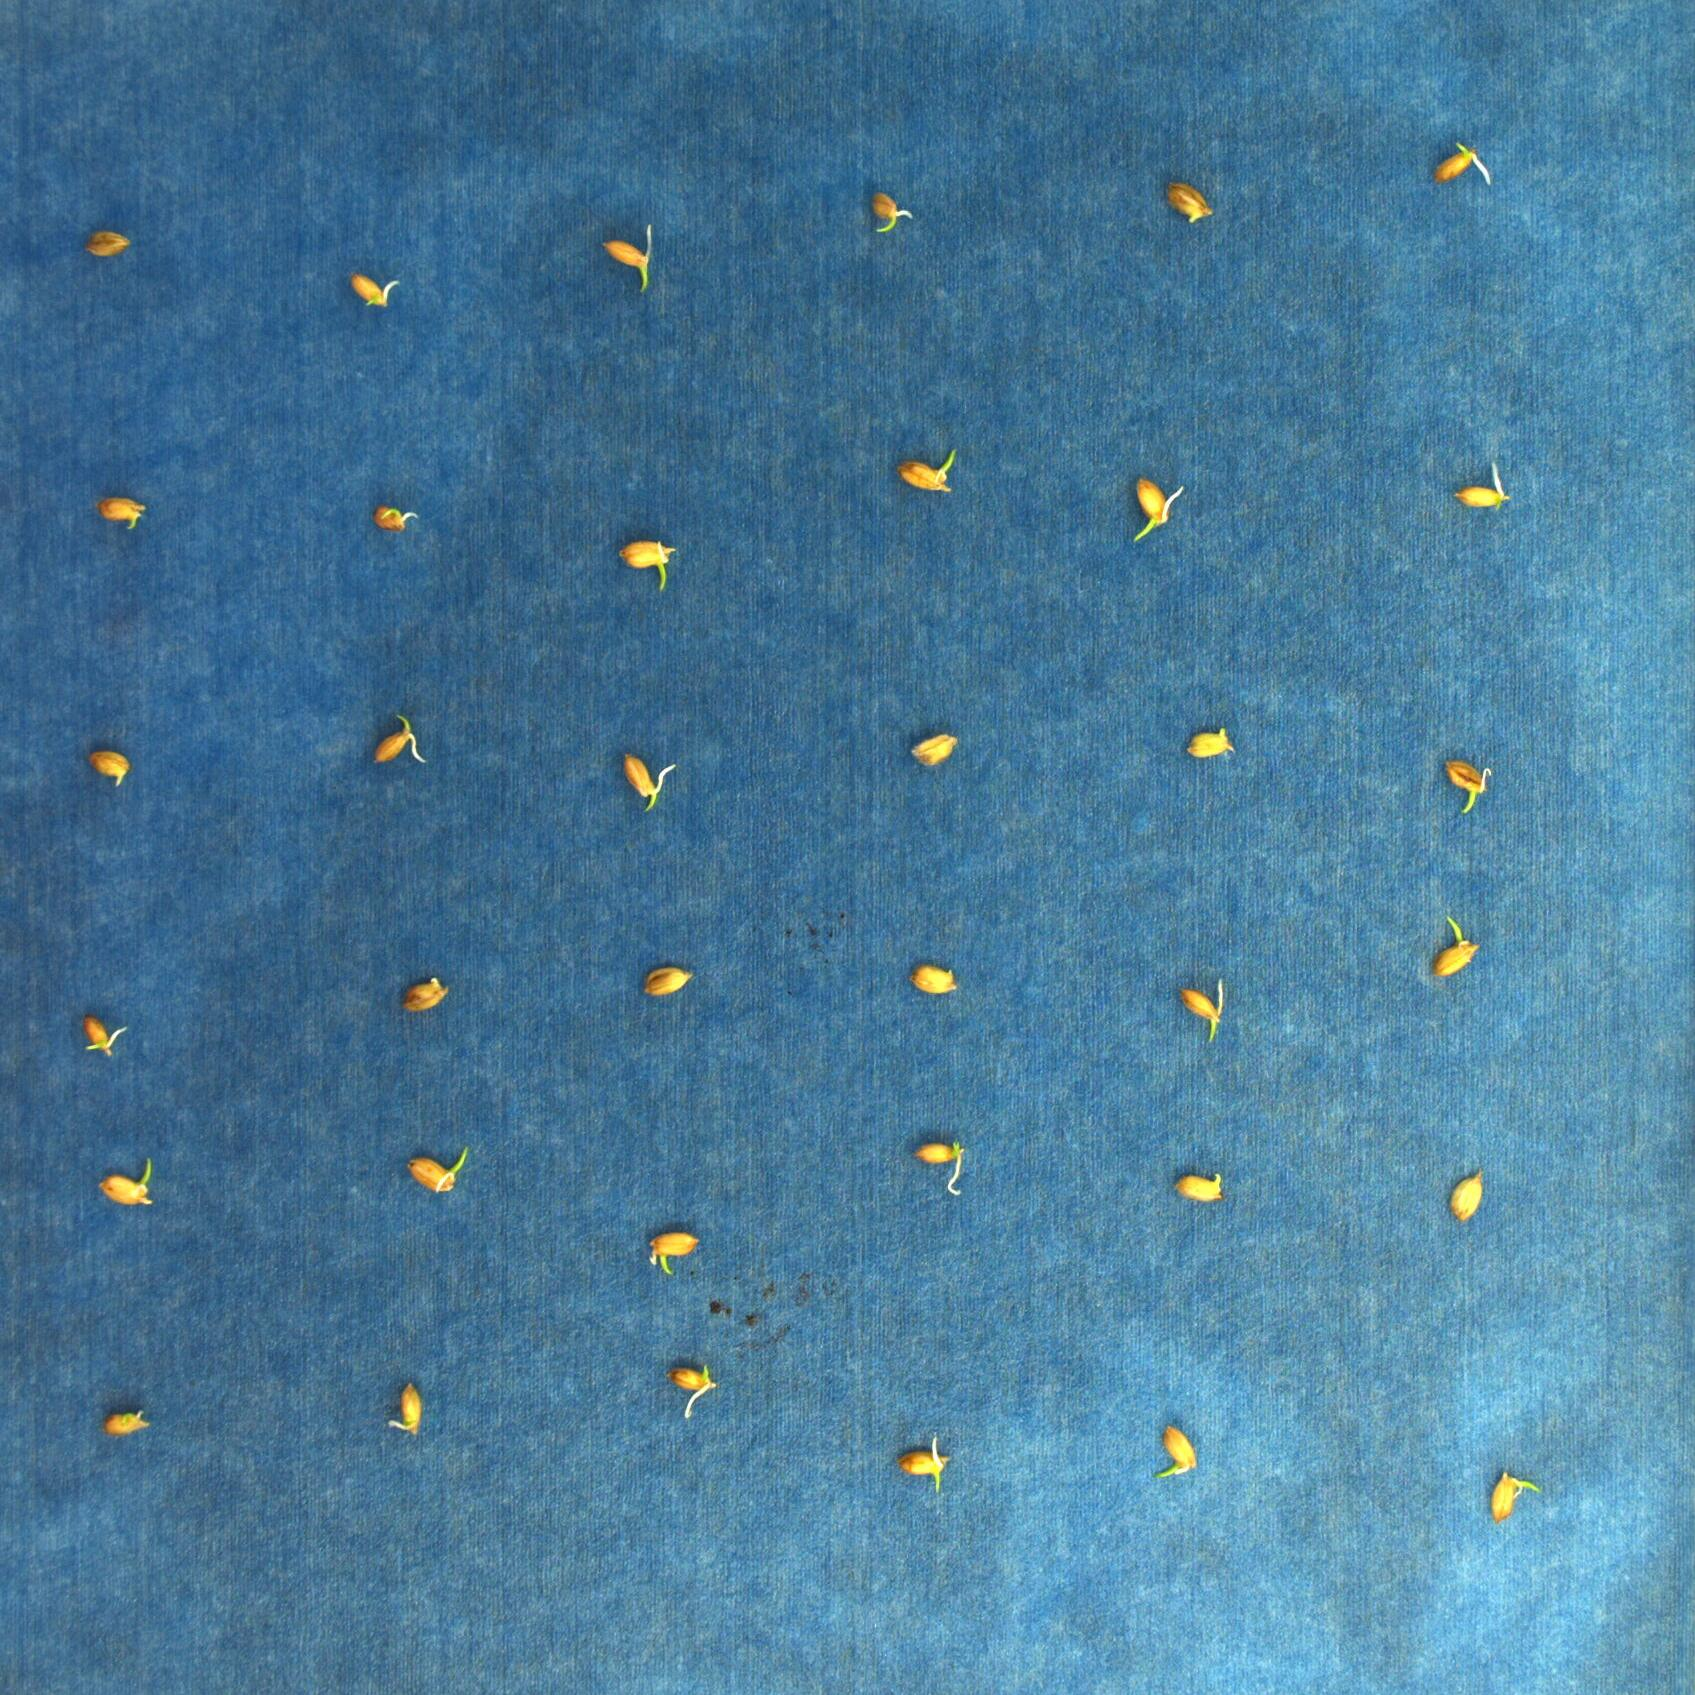not sprout: (622, 750, 677, 810), (913, 1139, 964, 1198), (664, 1364, 719, 1419), (1454, 461, 1509, 511), (1433, 141, 1492, 186), (1447, 1167, 1485, 1225), (386, 1380, 424, 1437), (1167, 179, 1214, 224), (82, 1014, 127, 1057), (96, 494, 147, 529), (908, 733, 959, 768), (399, 978, 450, 1014), (906, 961, 958, 995), (1173, 1173, 1226, 1205), (348, 275, 397, 307), (90, 747, 130, 785), (1186, 726, 1236, 757), (644, 965, 692, 997), (102, 1409, 151, 1437), (82, 231, 132, 258)
sprout: (601, 220, 653, 293), (1130, 477, 1183, 543), (408, 1144, 470, 1195), (897, 1433, 948, 1495), (1433, 914, 1481, 976), (371, 712, 425, 767), (99, 1153, 154, 1208), (1180, 978, 1225, 1042), (897, 447, 958, 494), (619, 542, 675, 591), (1490, 1470, 1541, 1523), (1152, 1425, 1198, 1481), (1445, 757, 1489, 813), (647, 1231, 698, 1277), (872, 192, 914, 234), (373, 504, 418, 532)
